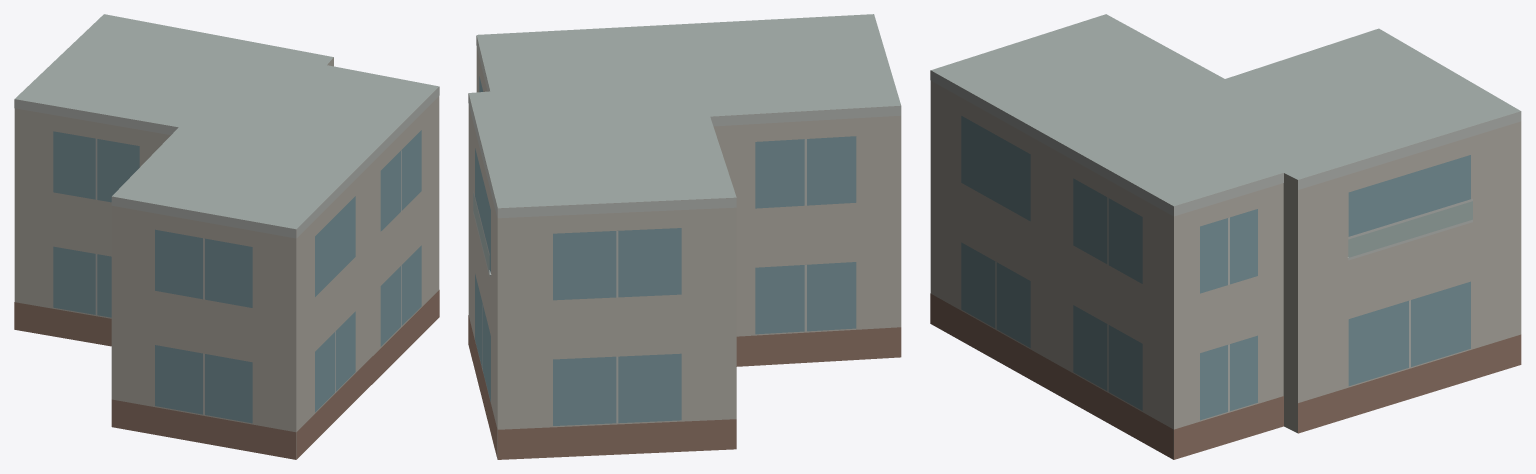
The model's file is survey-upis-32759474.glb.
3 views of the same model, side by side, from view 1: azimuth 30°, elevation 25°; view 2: azimuth 150°, elevation 25°; view 3: azimuth 270°, elevation 25° (orthographic). The views are drawn at different scales.
Visible parts, largest first — view 1: survey-upis-32759474.tmp; view 2: survey-upis-32759474.tmp; view 3: survey-upis-32759474.tmp.
Part boxes in pixels (x1,y1,x2,y2): survey-upis-32759474.tmp: (14, 14, 439, 459); survey-upis-32759474.tmp: (468, 14, 901, 459); survey-upis-32759474.tmp: (930, 14, 1521, 459).
Size of the model in its own units: 9.94 by 6.1 by 12.89.
